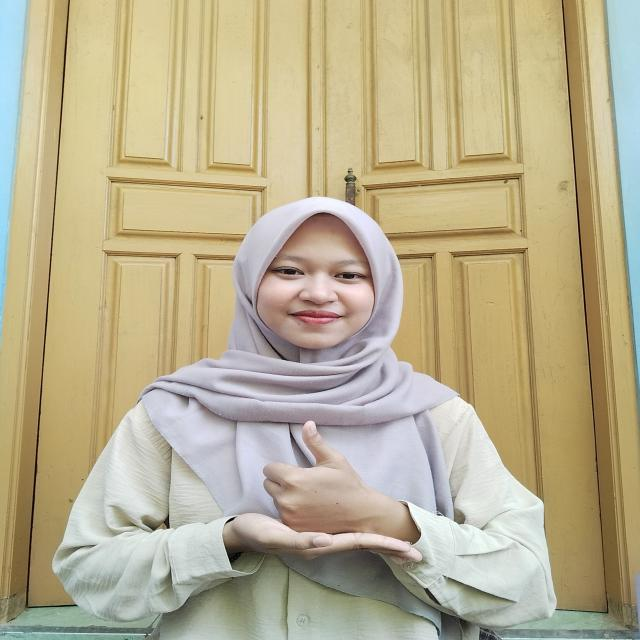cantik: (212, 400, 445, 576)
